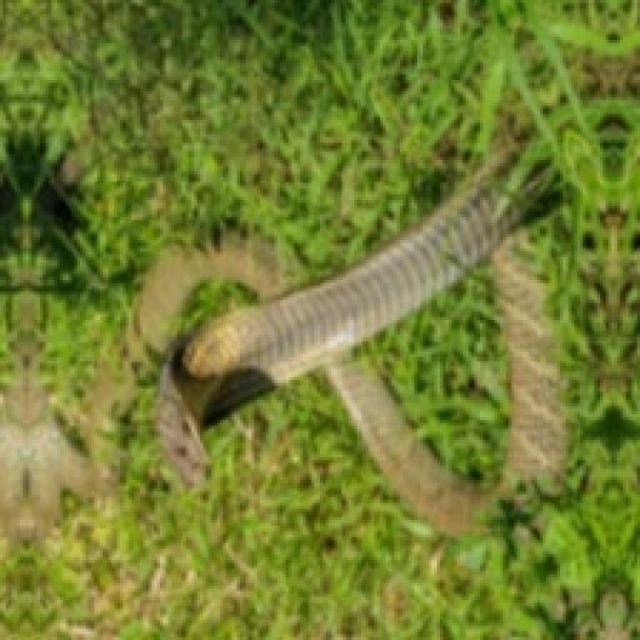king cobra: (154, 143, 566, 531), (346, 254, 511, 489)
